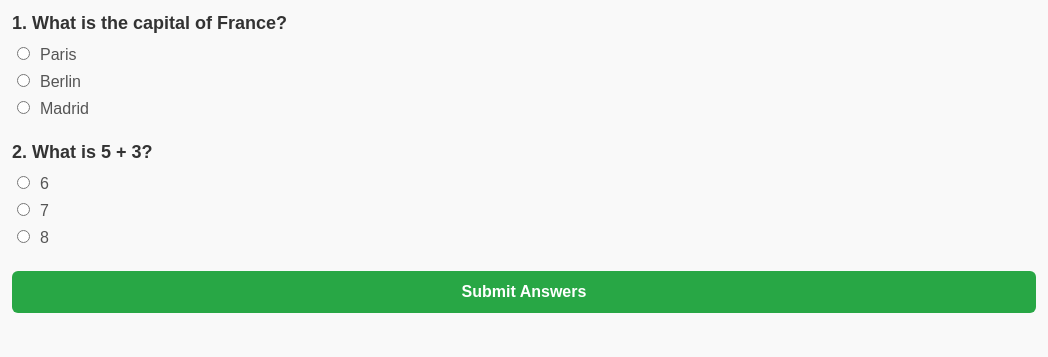
Test: QuestionList › shows error if not all questions are answered
Click the radio button labelled "Paris".
click(24, 54)  # box [17,47,30,60]
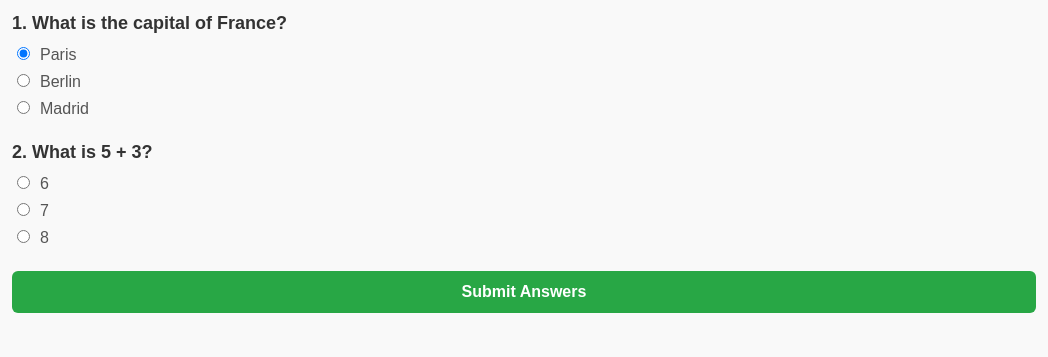
Click the button "Submit Answers".
click(524, 292)  # box [12,271,1036,313]
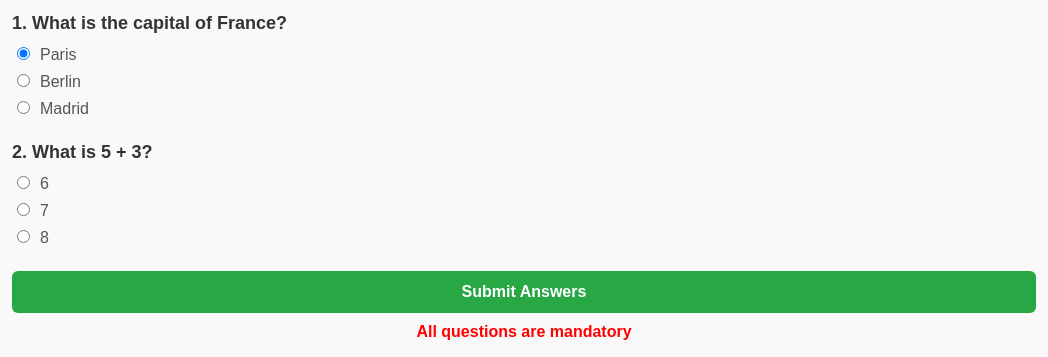
Check: the text "All questions are mandatory" is shown, box [416,323,632,340]
